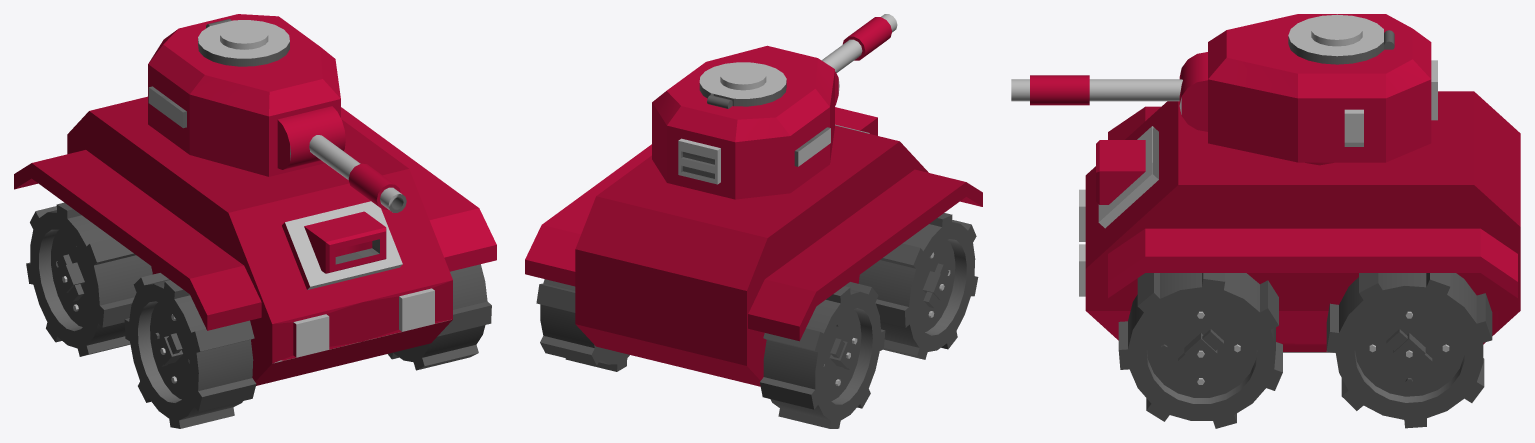
The model's file is ETank.obj.
3 views of the same model, side by side, from view 1: azimuth 30°, elevation 25°; view 2: azimuth 150°, elevation 25°; view 3: azimuth 270°, elevation 25° (orthographic). The views are drawn at different scales.
Visible parts, largest first — view 1: TankFree_Wheel_b_right_メッシュ.004; view 2: TankFree_Wheel_b_right_メッシュ.004; view 3: TankFree_Wheel_b_right_メッシュ.004.
Part boxes in pixels (x1=…): TankFree_Wheel_b_right_メッシュ.004: x1=14, y1=14, x2=496, y2=428; TankFree_Wheel_b_right_メッシュ.004: x1=525, y1=14, x2=982, y2=428; TankFree_Wheel_b_right_メッシュ.004: x1=1011, y1=14, x2=1520, y2=428.
Size of the model in its own units: 1.93 by 1.93 by 2.74.
1 material, 1 textured.
